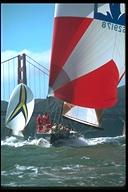sailboat: (33, 4, 127, 149), (5, 81, 35, 146)
sky: (2, 6, 51, 52)
water: (2, 148, 125, 186)
